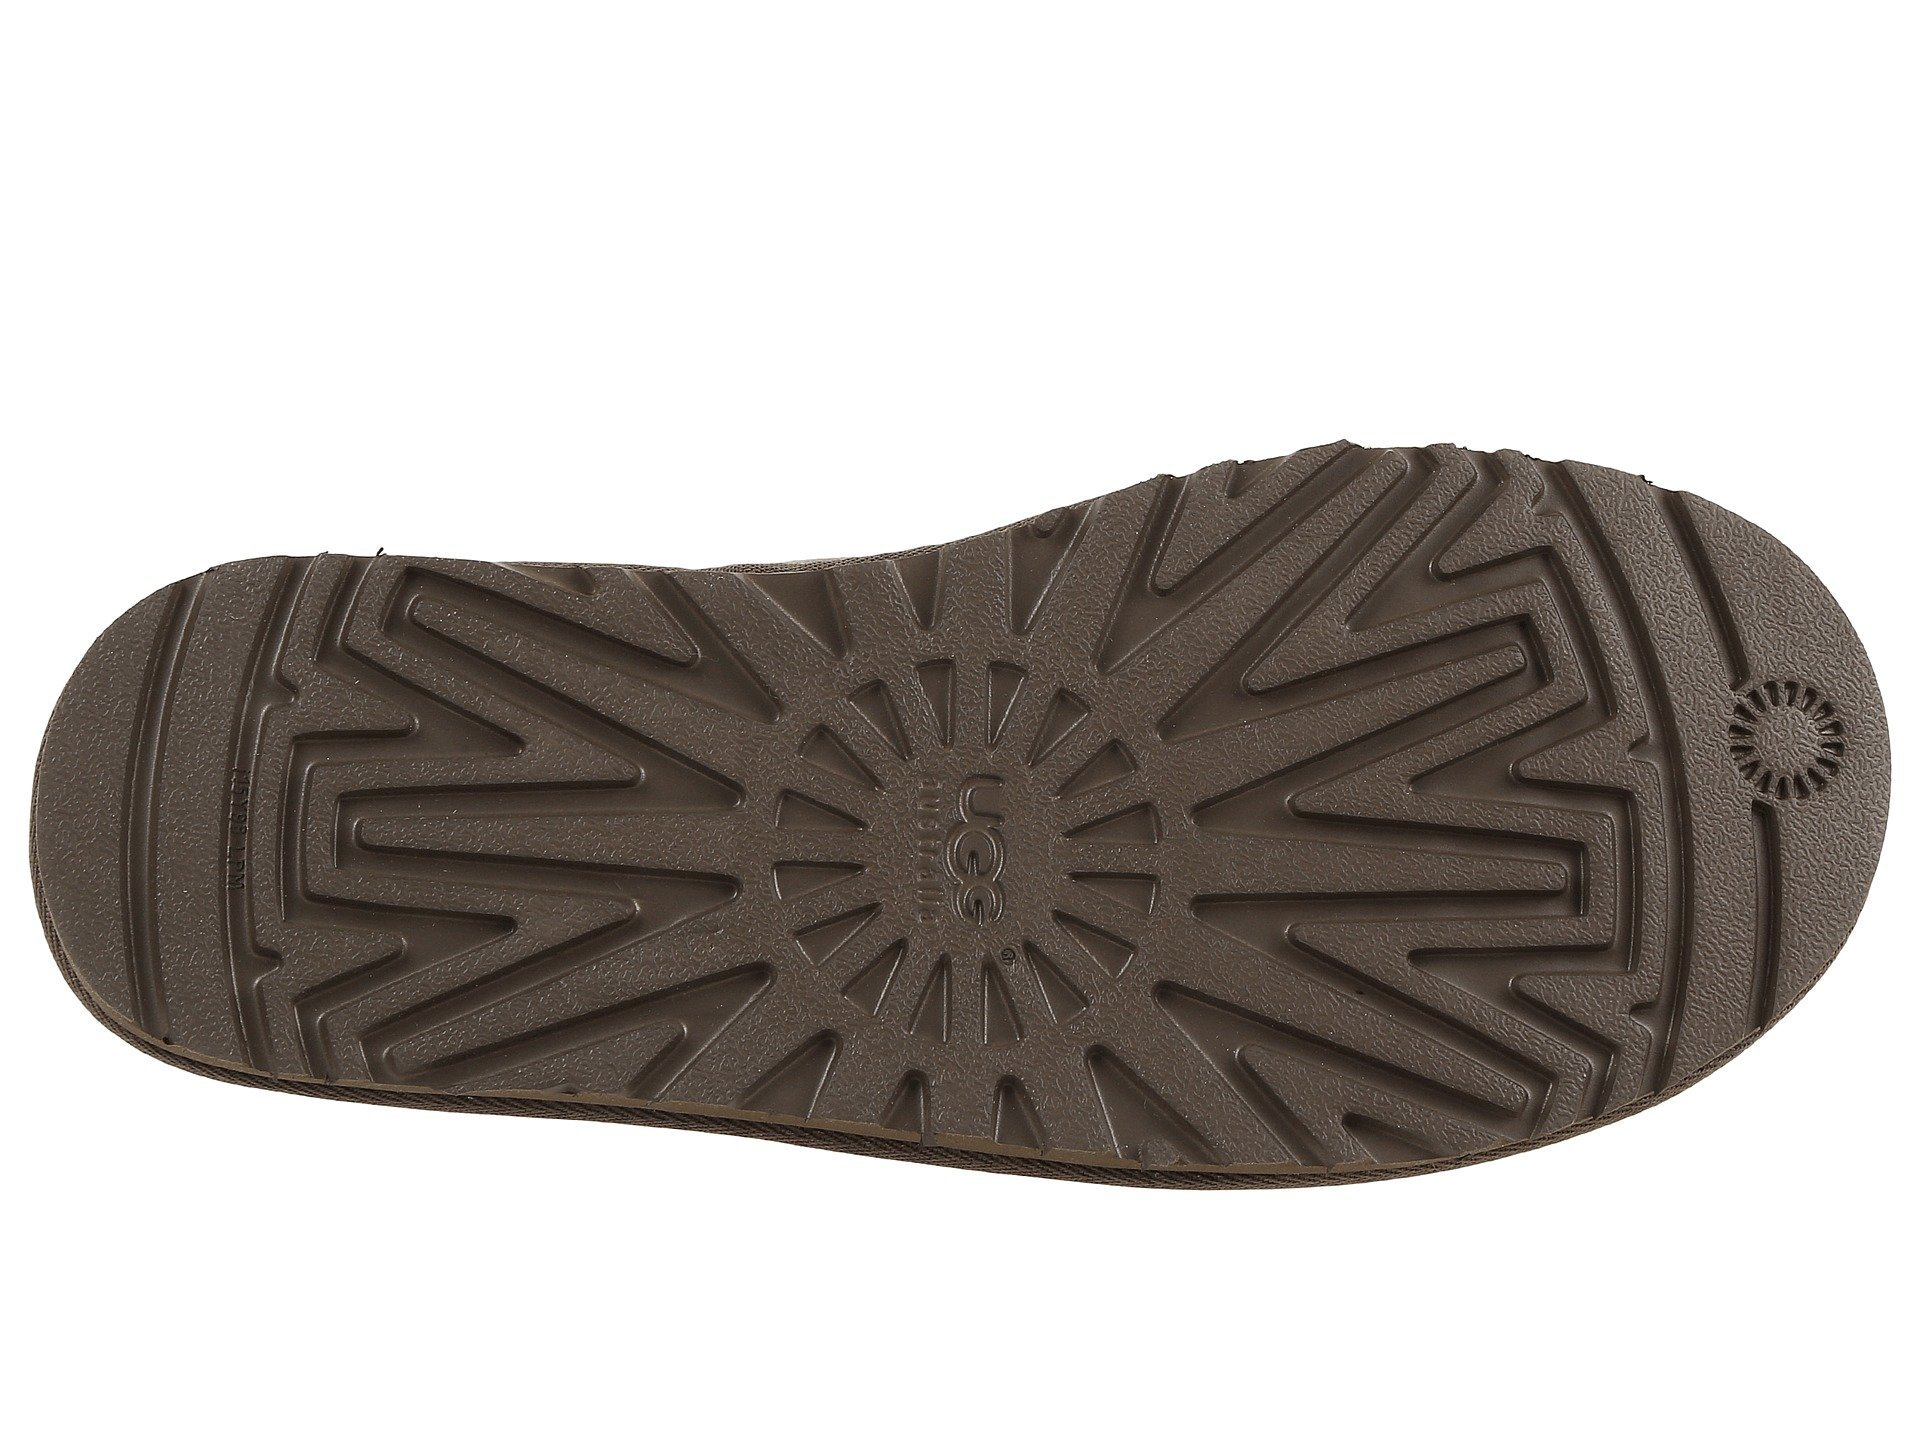chevron: (641, 591, 1250, 1128), (311, 610, 649, 976), (1259, 790, 1587, 1131), (1232, 467, 1504, 777)
circle: (641, 591, 1250, 1128), (1705, 641, 1863, 836)
line: (641, 591, 1250, 1128), (67, 694, 278, 911), (1705, 641, 1863, 836)
star: (641, 591, 1250, 1128), (1705, 641, 1863, 836)
text: (641, 591, 1250, 1128)
triangle: (641, 591, 1250, 1128), (1705, 641, 1863, 836)
